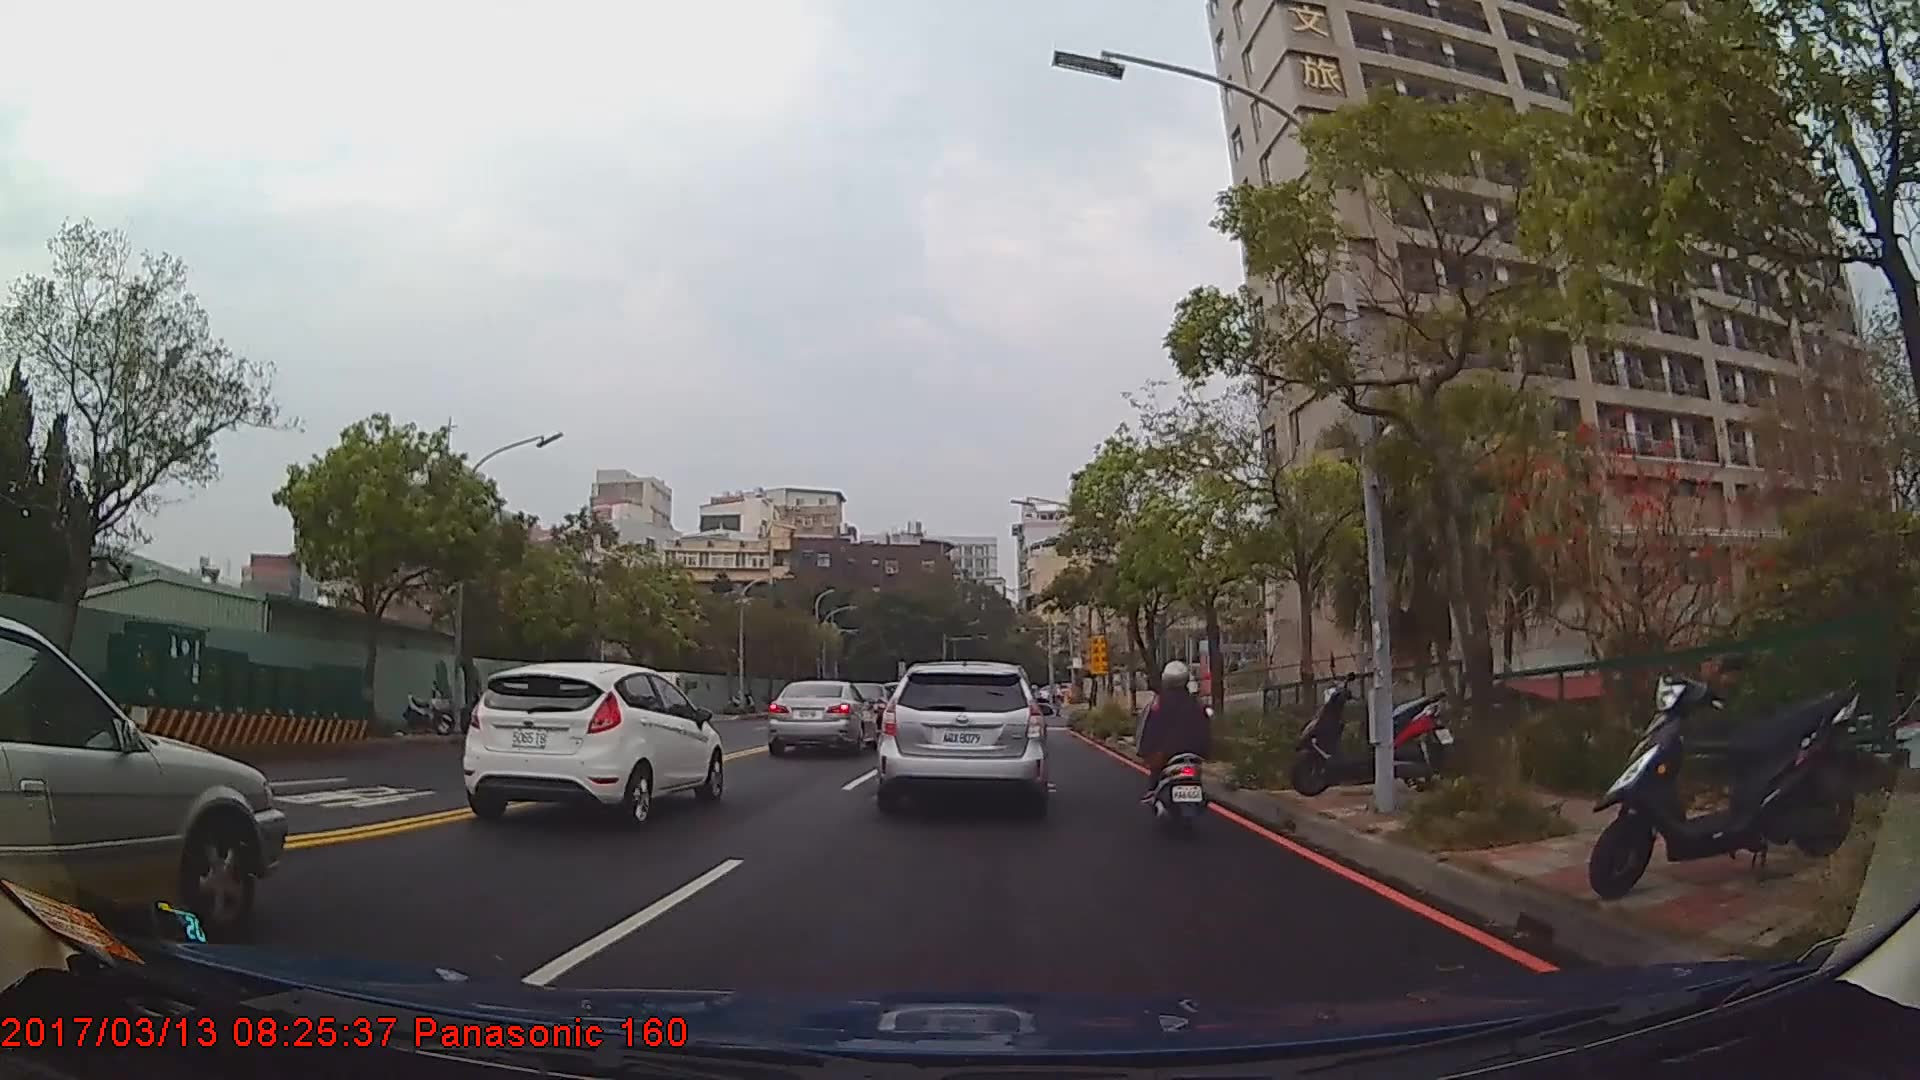rider: (1141, 662, 1211, 839)
vehicle: (0, 616, 284, 937), (461, 659, 723, 829), (877, 659, 1046, 817), (765, 679, 880, 756)
